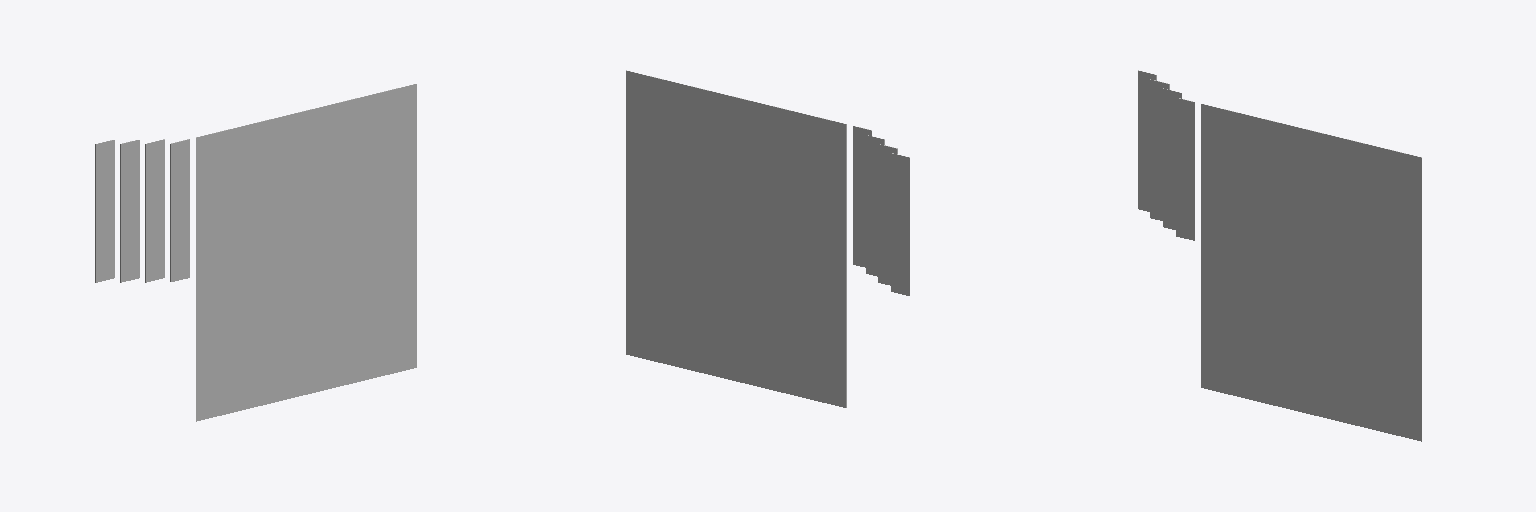
The model's file is Platten_Terras.obj.
3 views of the same model, side by side, from view 1: azimuth 30°, elevation 25°; view 2: azimuth 150°, elevation 25°; view 3: azimuth 330°, elevation 25° (orthographic).
Size of the model in its own units: 4800 by 4300 by 512.